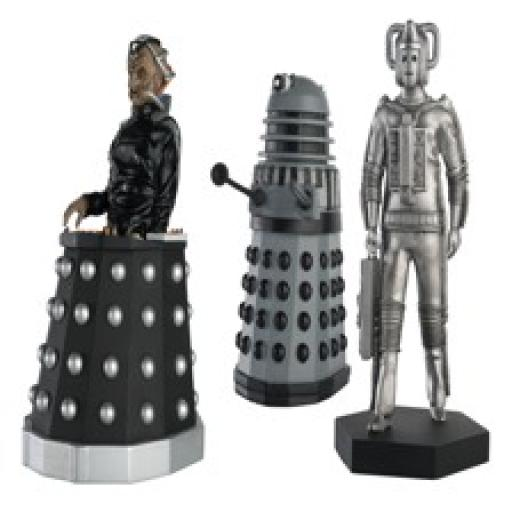dalek: (24, 34, 208, 485), (211, 67, 353, 406)
